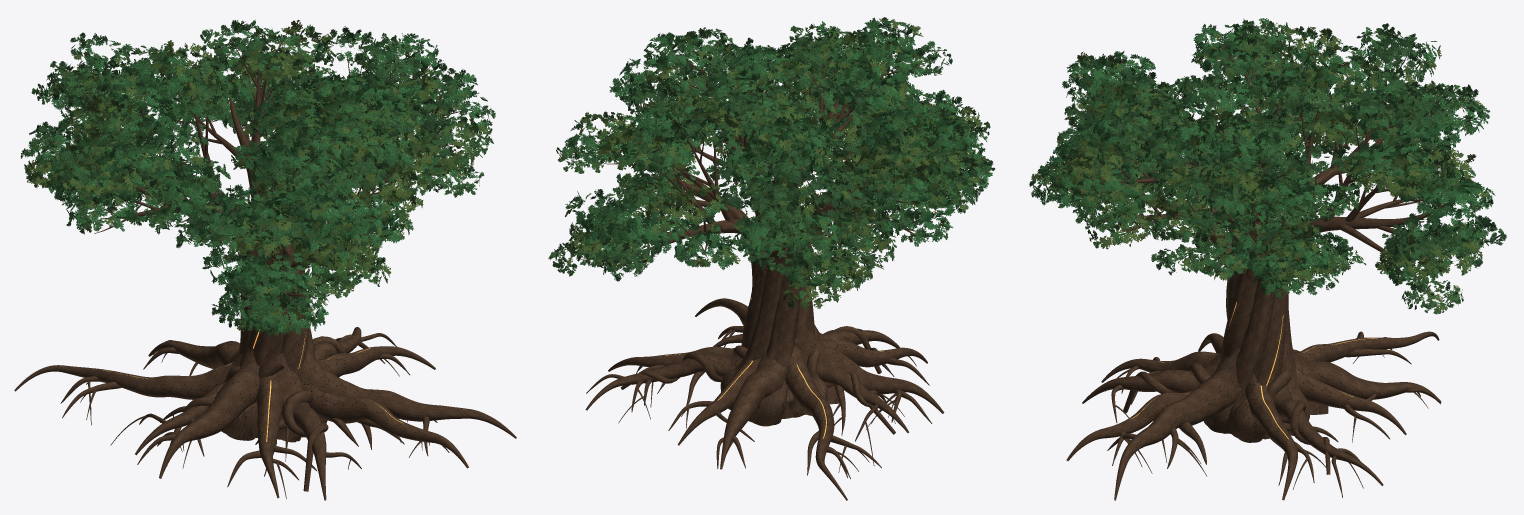
The model's file is yggdrasil.glb.
3 views of the same model, side by side, from view 1: azimuth 30°, elevation 25°; view 2: azimuth 150°, elevation 25°; view 3: azimuth 270°, elevation 25° (orthographic). The views are drawn at different scales.
Visible parts, largest first — view 1: YGG_Foliage, YGG_Roots, YGG_Branches, YGG_Trunk; view 2: YGG_Foliage, YGG_Roots, YGG_Trunk, YGG_Branches; view 3: YGG_Foliage, YGG_Roots, YGG_Trunk, YGG_Branches.
Boxes of the visible parts, x1,y1,x2,y2 form: YGG_Foliage: (20, 19, 495, 336); YGG_Roots: (14, 327, 516, 500); YGG_Branches: (54, 27, 461, 319); YGG_Trunk: (221, 241, 327, 442); YGG_Foliage: (548, 17, 995, 309); YGG_Roots: (585, 298, 944, 500); YGG_Trunk: (720, 268, 839, 426); YGG_Branches: (577, 37, 956, 291); YGG_Foliage: (1029, 18, 1506, 314); YGG_Roots: (1066, 331, 1441, 500); YGG_Trunk: (1203, 239, 1328, 442); YGG_Branches: (1068, 39, 1453, 302).
Size of the model in its own units: 52.44 by 44.48 by 53.45.
Materials: 5 (4 with a texture image).
